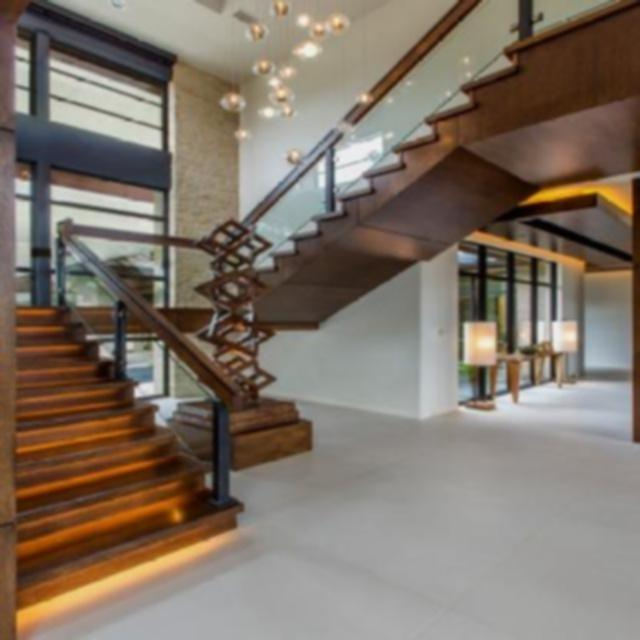stair: (18, 284, 362, 553)
